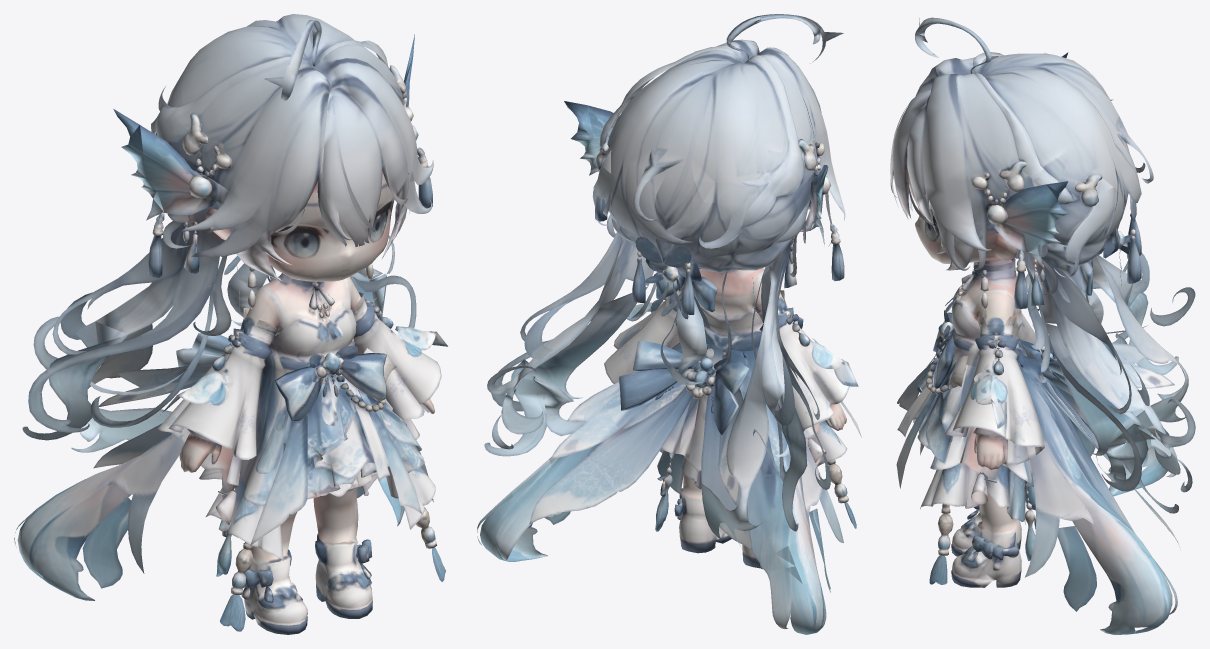
Rendered from source.glb.
The picture shows the model from 3 angles, left to right: view 1: azimuth 30°, elevation 25°; view 2: azimuth 150°, elevation 25°; view 3: azimuth 270°, elevation 25°; orthographic projection. The views are drawn at different scales.
Visible parts, largest first — view 1: tripo_part_0, tripo_part_1, tripo_part_3, tripo_part_4, tripo_part_6, tripo_part_9, tripo_part_2, tripo_part_5, tripo_part_36, tripo_part_11, tripo_part_109, tripo_part_79 (+20 smaller); view 2: tripo_part_0, tripo_part_6, tripo_part_3, tripo_part_107, tripo_part_14, tripo_part_4, tripo_part_96, tripo_part_5, tripo_part_1, tripo_part_131, tripo_part_2, tripo_part_11 (+14 smaller); view 3: tripo_part_0, tripo_part_3, tripo_part_5, tripo_part_1, tripo_part_84, tripo_part_47, tripo_part_11, tripo_part_165, tripo_part_14, tripo_part_2, tripo_part_9, tripo_part_56 (+18 smaller).
Part boxes in pixels (<box>): tripo_part_0: <box>22,14,433,452</box>; tripo_part_1: <box>244,487,372,634</box>; tripo_part_3: <box>244,273,404,526</box>; tripo_part_4: <box>157,307,277,498</box>; tripo_part_6: <box>14,432,172,600</box>; tripo_part_9: <box>206,171,394,281</box>; tripo_part_2: <box>199,373,424,505</box>; tripo_part_5: <box>352,292,441,439</box>; tripo_part_36: <box>113,109,229,220</box>; tripo_part_11: <box>206,466,435,560</box>; tripo_part_109: <box>250,414,307,545</box>; tripo_part_79: <box>107,435,182,573</box>; tripo_part_0: <box>484,39,845,551</box>; tripo_part_6: <box>740,362,826,634</box>; tripo_part_3: <box>477,268,783,561</box>; tripo_part_107: <box>529,386,692,524</box>; tripo_part_14: <box>599,47,804,226</box>; tripo_part_4: <box>754,290,849,446</box>; tripo_part_96: <box>550,346,709,460</box>; tripo_part_5: <box>604,285,683,383</box>; tripo_part_1: <box>679,474,760,568</box>; tripo_part_131: <box>701,375,752,549</box>; tripo_part_2: <box>661,345,758,471</box>; tripo_part_11: <box>657,421,847,494</box>; tripo_part_0: <box>890,53,1195,513</box>; tripo_part_3: <box>935,258,1177,634</box>; tripo_part_5: <box>945,316,1044,488</box>; tripo_part_1: <box>951,494,1021,587</box>; tripo_part_84: <box>1025,445,1093,577</box>; tripo_part_47: <box>991,181,1069,266</box>; tripo_part_11: <box>920,443,1033,524</box>; tripo_part_165: <box>1057,526,1096,611</box>; tripo_part_14: <box>973,52,1113,204</box>; tripo_part_2: <box>913,346,1032,482</box>; tripo_part_9: <box>909,179,1017,263</box>; tripo_part_56: <box>926,365,967,463</box>.
Bounding box in the file's own units: 0.6756 × 1 × 0.5193.
Materials: 1 (1 with a texture image).
